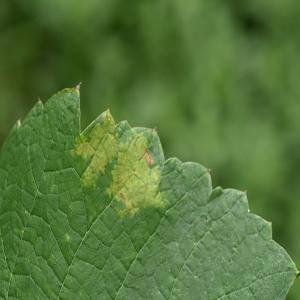Folha: (0, 80, 299, 300)
Fungo: (107, 120, 166, 219), (78, 113, 128, 188), (37, 96, 44, 110), (144, 150, 150, 165), (16, 117, 23, 127), (75, 81, 82, 90), (64, 231, 70, 241), (120, 192, 125, 202)
